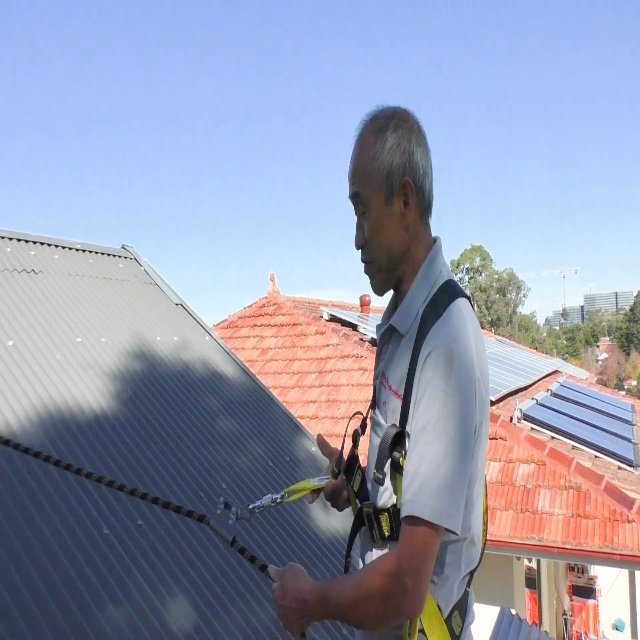Arnes_seguridad: (307, 276, 489, 640)
